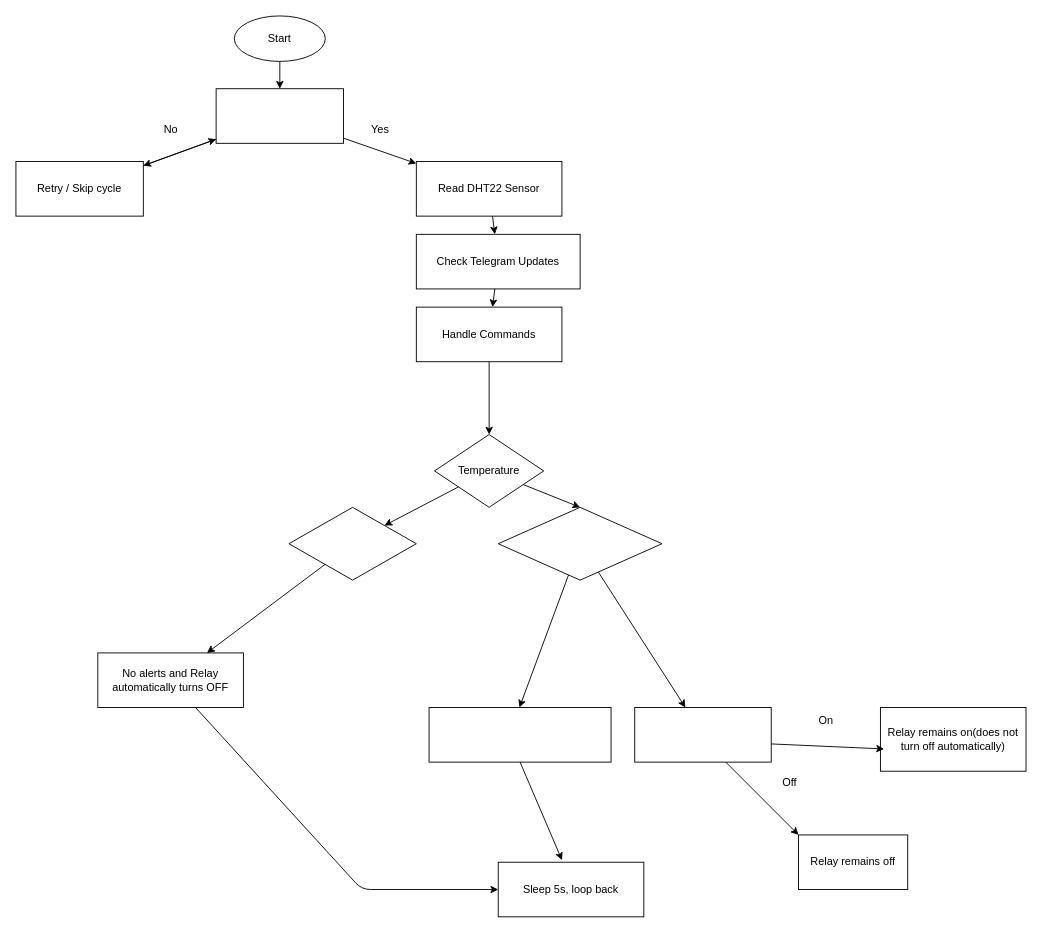
Some shapes in this 1042 by 933 pixel diagram are drawn without their labels. Here are the shapes that lost their labels. From the top down, the centre of each, then its label:
(x=279, y=115): Find WIFI connection
(x=352, y=543): Less than 30°C
(x=579, y=543): More than or equal to 30°C
(x=519, y=734): Send alerts to the telegram group
(x=702, y=734): Relay Control
